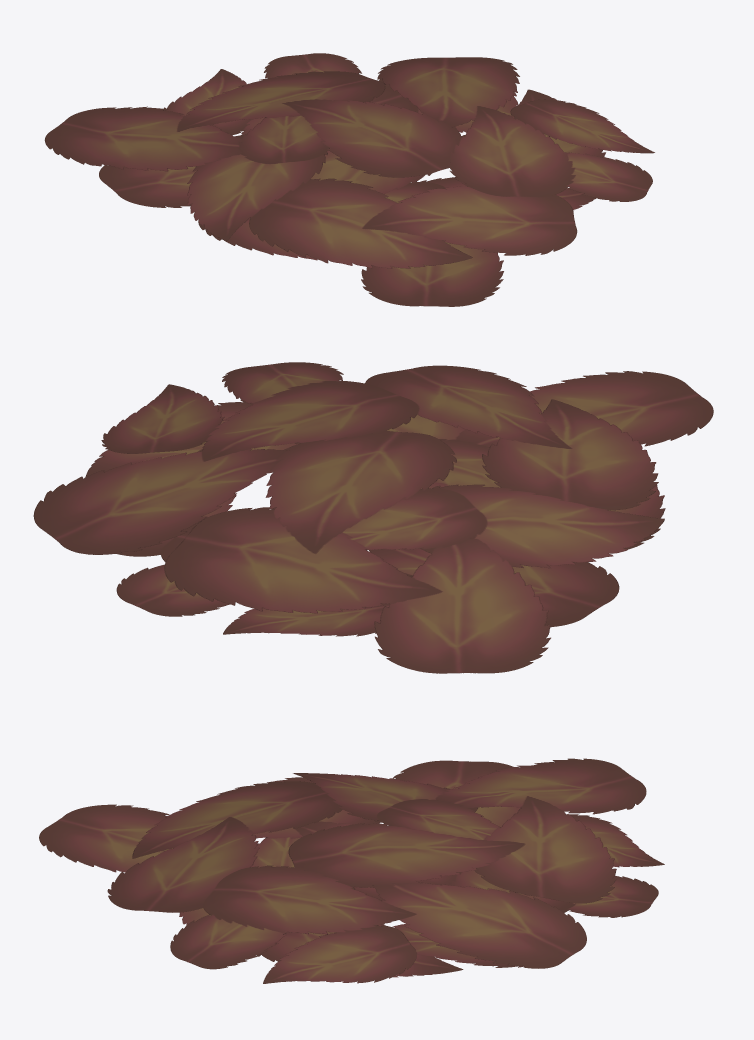
The model's file is AutumnLeafs.fbx.
The picture shows the model from 3 angles, top to bottom: view 1: azimuth 30°, elevation 25°; view 2: azimuth 150°, elevation 25°; view 3: azimuth 270°, elevation 25°; orthographic projection. The views are drawn at different scales.
Parts seen in each view (by area): view 1: AutumnLeafs; view 2: AutumnLeafs; view 3: AutumnLeafs.
Part boxes in pixels (bbox=[...]): AutumnLeafs: bbox=[44, 53, 654, 306]; AutumnLeafs: bbox=[33, 362, 713, 673]; AutumnLeafs: bbox=[39, 758, 664, 983].
Bounding box in the file's own units: 269 × 16.08 × 269.
